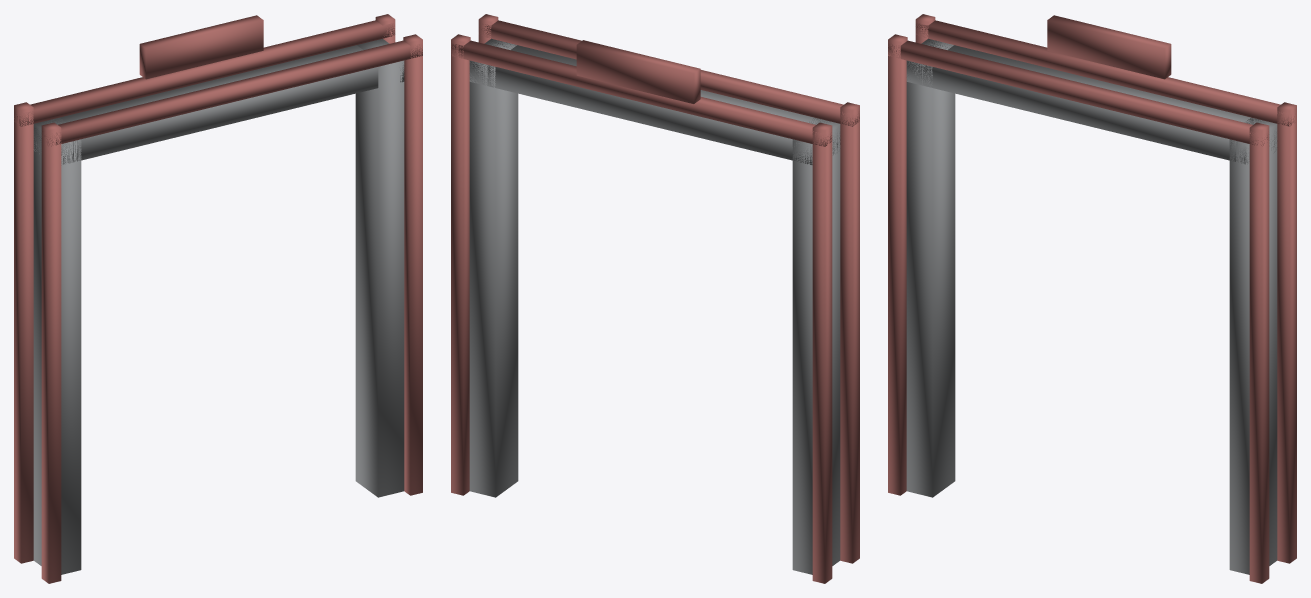
Rendered from doorway_emergency_exit_w182_h240_d24.glb.
The picture shows the model from 3 angles, left to right: view 1: azimuth 30°, elevation 25°; view 2: azimuth 150°, elevation 25°; view 3: azimuth 330°, elevation 25°; orthographic projection.
Visible parts, largest first — view 1: world; view 2: world; view 3: world.
Part boxes in pixels (bbox=[...]): world: bbox=[14, 14, 422, 583]; world: bbox=[451, 14, 859, 583]; world: bbox=[888, 14, 1296, 583].
Bounding box in the file's own units: 2.29 × 2.82 × 0.4003.
